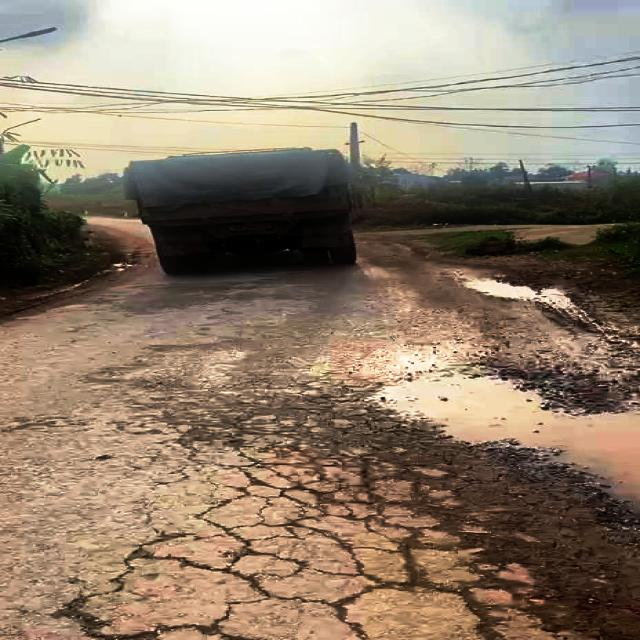pothole: (361, 362, 640, 511)
